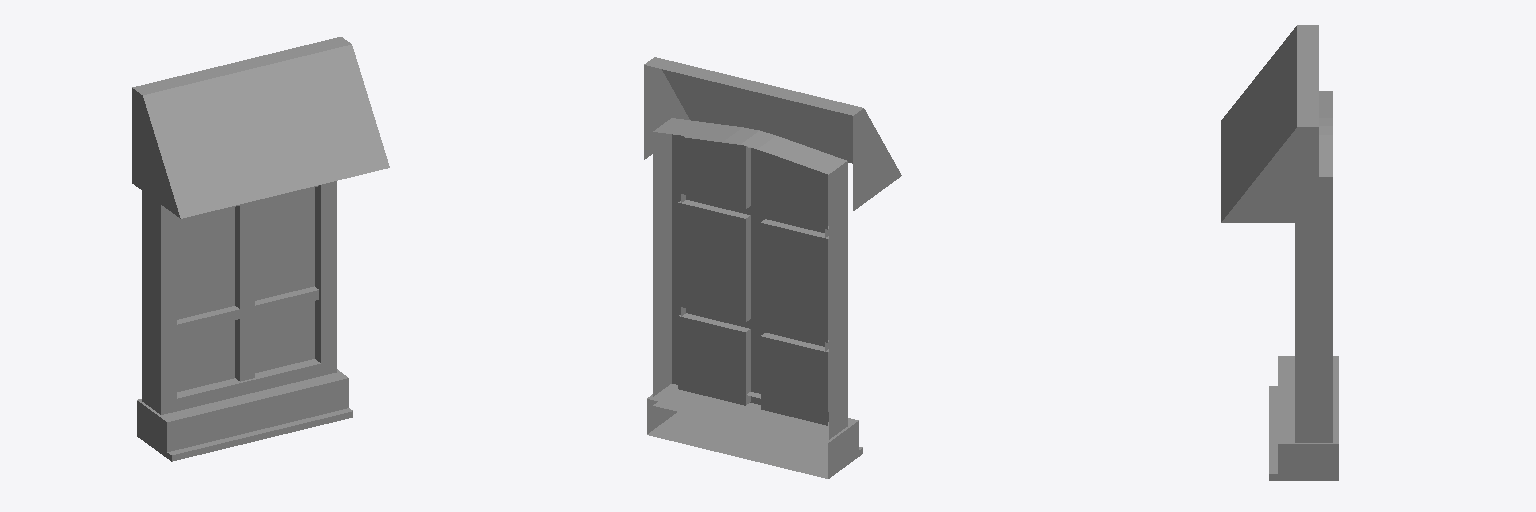
Rendered from Window_Double_Roof.obj.
The picture shows the model from 3 angles: view 1: azimuth 30°, elevation 25°; view 2: azimuth 150°, elevation 25°; view 3: azimuth 270°, elevation 25°; orthographic projection.
Parts seen in each view (by area): view 1: Window_Double_Roof_Cube.180; view 2: Window_Double_Roof_Cube.180; view 3: Window_Double_Roof_Cube.180.
Part boxes in pixels (left/top/right/bottom): Window_Double_Roof_Cube.180: left=132, top=37, right=389, bottom=461; Window_Double_Roof_Cube.180: left=644, top=57, right=901, bottom=478; Window_Double_Roof_Cube.180: left=1221, top=25, right=1338, bottom=480.
Size of the model in its own units: 0.3602 by 0.5913 by 0.1755.